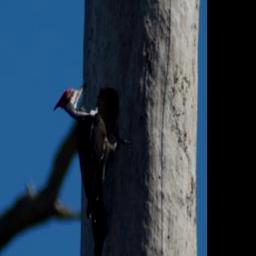Woodpecker: (53, 81, 131, 256)
